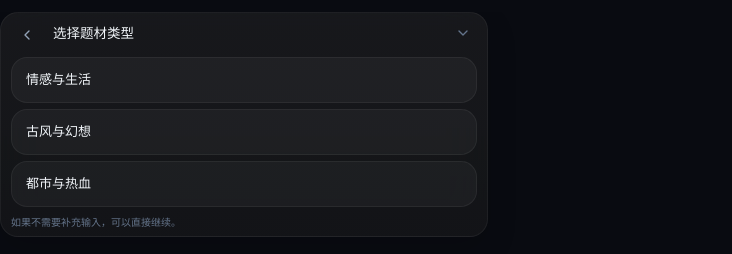
Test: ComposerChoicePanel › adds aria wiring for the genre submenu and lets Escape close it with focus return
Click the button "情感与生活": (59, 79) top-left (11, 57), bottom-right (477, 103)
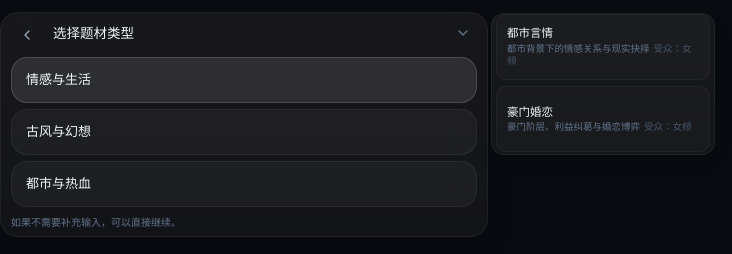
Press Escape in the element with test id "genre-picker-root", box top-left (11, 57), bottom-right (477, 207)
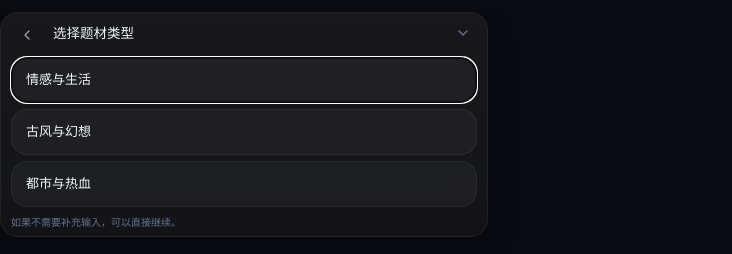
Check: the element with test id "genre-secondary-panel" is gone
